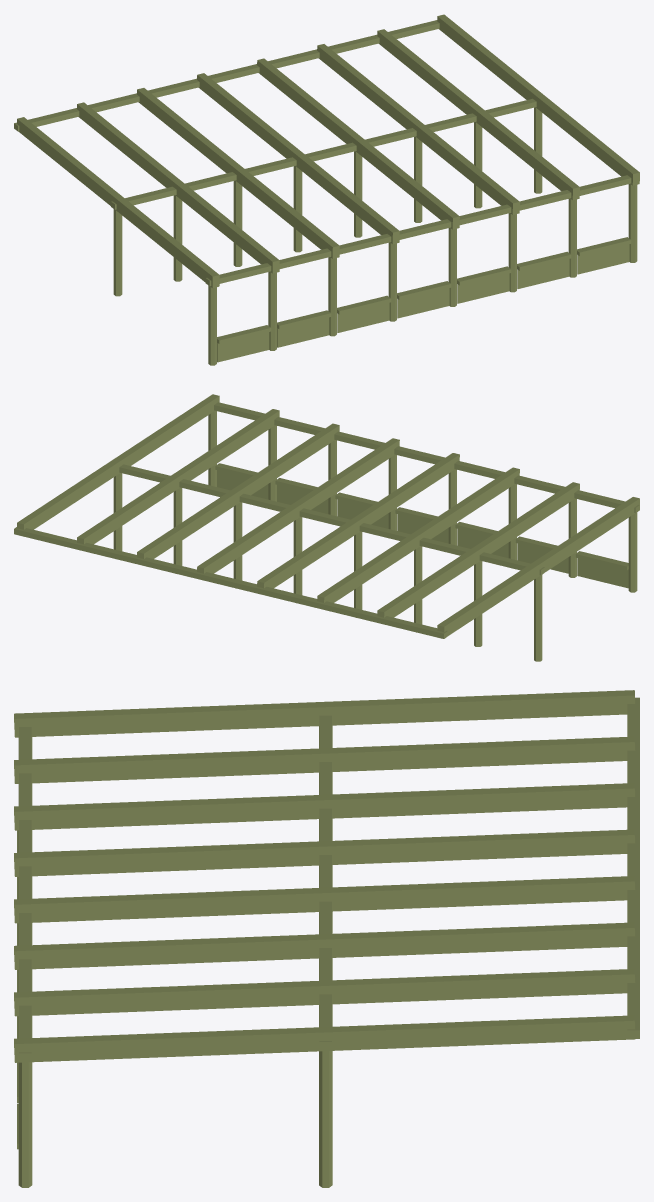
File: SM_MarquesinaAdosada_v3_LOD1.fbx
The picture shows the model from 3 angles, top to bottom: view 1: azimuth 30°, elevation 25°; view 2: azimuth 150°, elevation 25°; view 3: azimuth 270°, elevation 25°; orthographic projection. The views are drawn at different scales.
Parts seen in each view (by area): view 1: SM_marquesina_adosada_v3_LOD1; view 2: SM_marquesina_adosada_v3_LOD1; view 3: SM_marquesina_adosada_v3_LOD1.
Boxes of the visible parts, x1,y1,x2,y2 form: SM_marquesina_adosada_v3_LOD1: [14, 14, 639, 365]; SM_marquesina_adosada_v3_LOD1: [14, 394, 639, 661]; SM_marquesina_adosada_v3_LOD1: [14, 690, 639, 1187].
Bounding box in the file's own units: 20.98 × 4.92 × 16.67.
